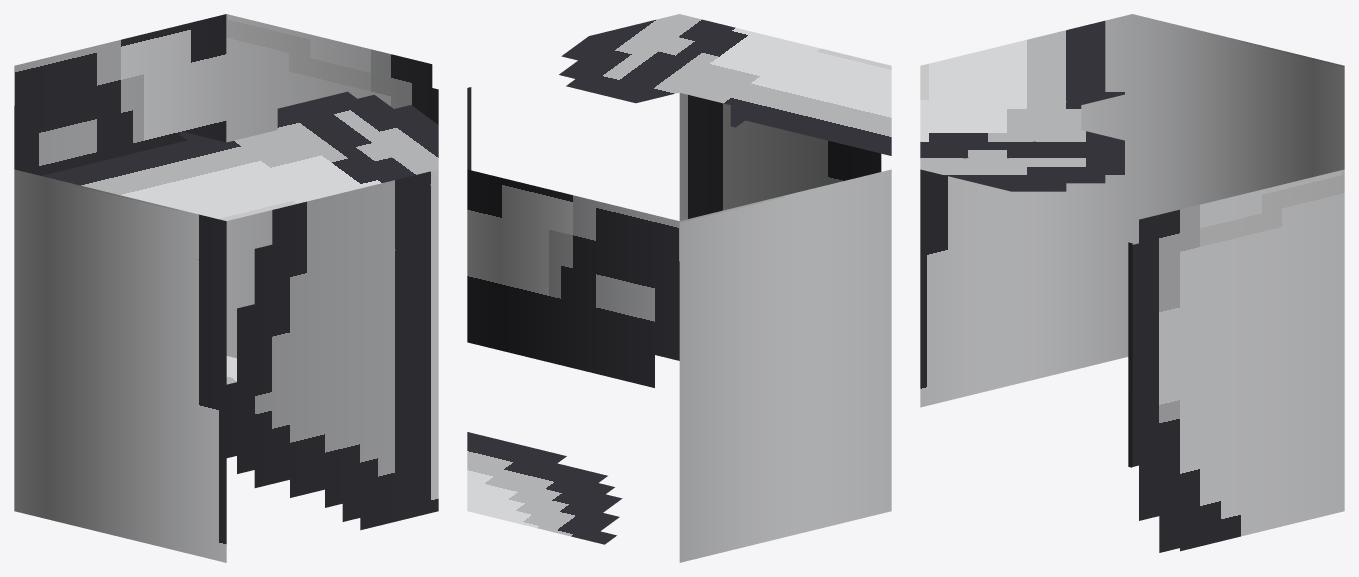
The model's file is ToiletPaper1.FBX.
3 views of the same model, side by side, from view 1: azimuth 30°, elevation 25°; view 2: azimuth 150°, elevation 25°; view 3: azimuth 270°, elevation 25° (orthographic).
Visible parts, largest first — view 1: ToiletPaper1; view 2: ToiletPaper1; view 3: ToiletPaper1.
Part boxes in pixels (x1=…): ToiletPaper1: x1=14, y1=14, x2=438, y2=562; ToiletPaper1: x1=467, y1=14, x2=891, y2=562; ToiletPaper1: x1=920, y1=14, x2=1344, y2=552.
Size of the model in its own units: 54.71 by 42.09 by 47.38.
